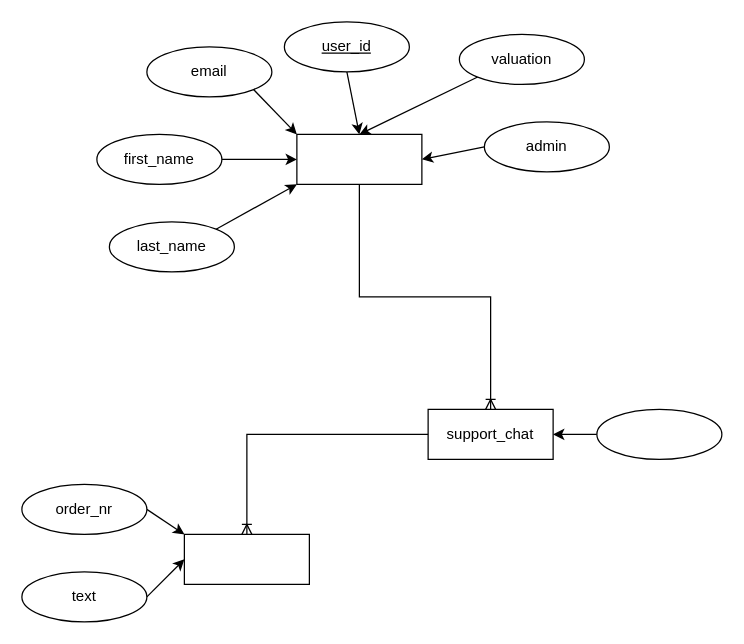
Some shapes in this 744 by 644 pixel diagram are drawn without their labels. The box of each missing label's shape, as (x1, y1, x2, y2) in pixels:
message: (183, 533, 309, 584)
support_chat_id: (596, 408, 722, 459)
users: (296, 133, 422, 184)
